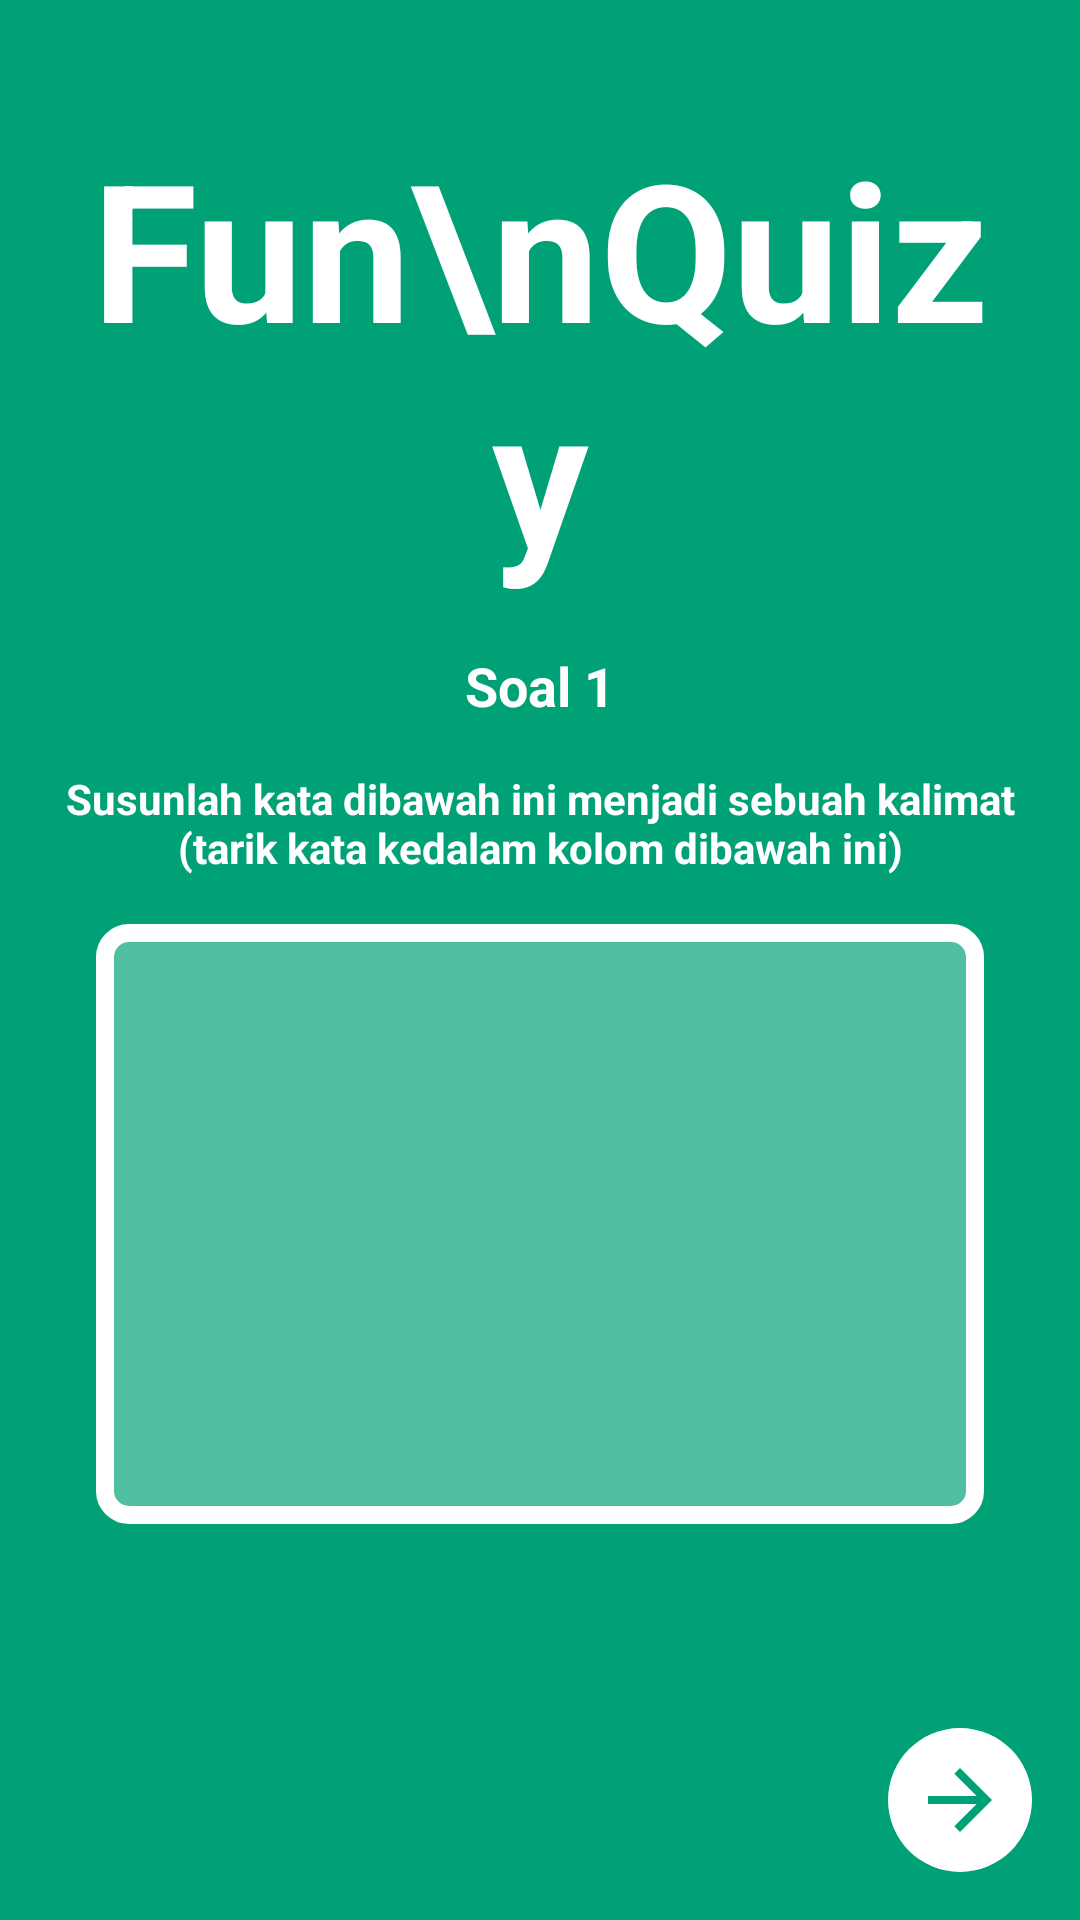

Screen size 1080×1920. Icon name, then its box in pixels as (x1, y1, x2, y2):
arrow forward: (888, 1728, 1032, 1872)
